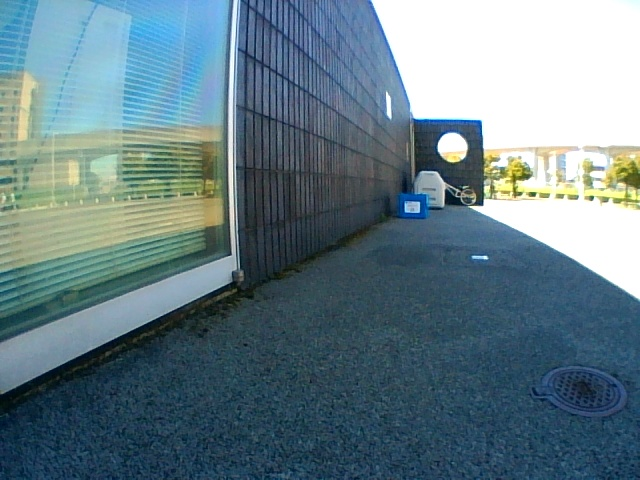blue_box: (399, 193, 427, 218)
tag: (405, 201, 420, 213)
